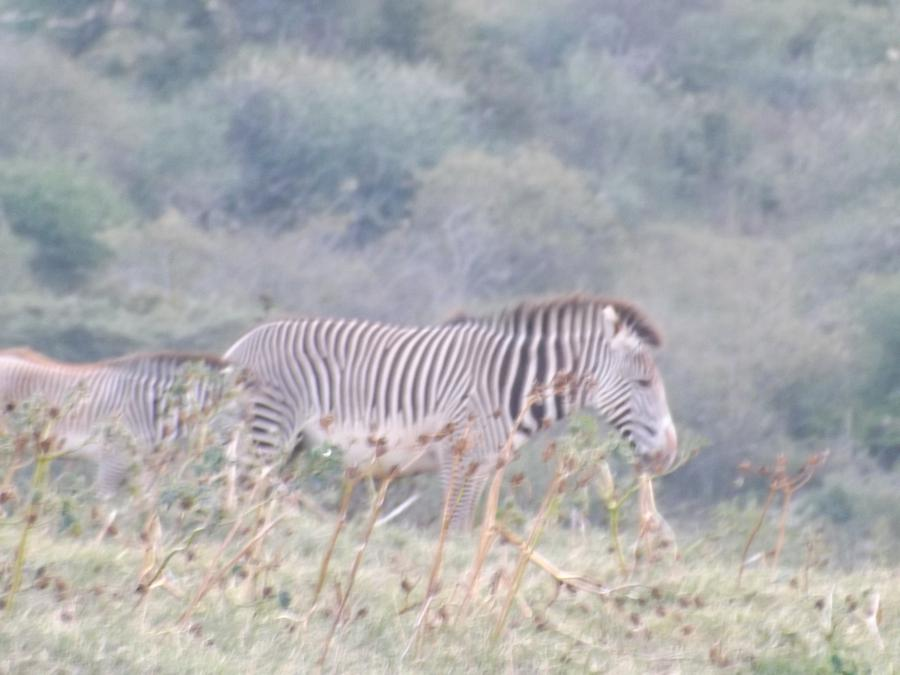zebra_grevys: (220, 308, 511, 460)
